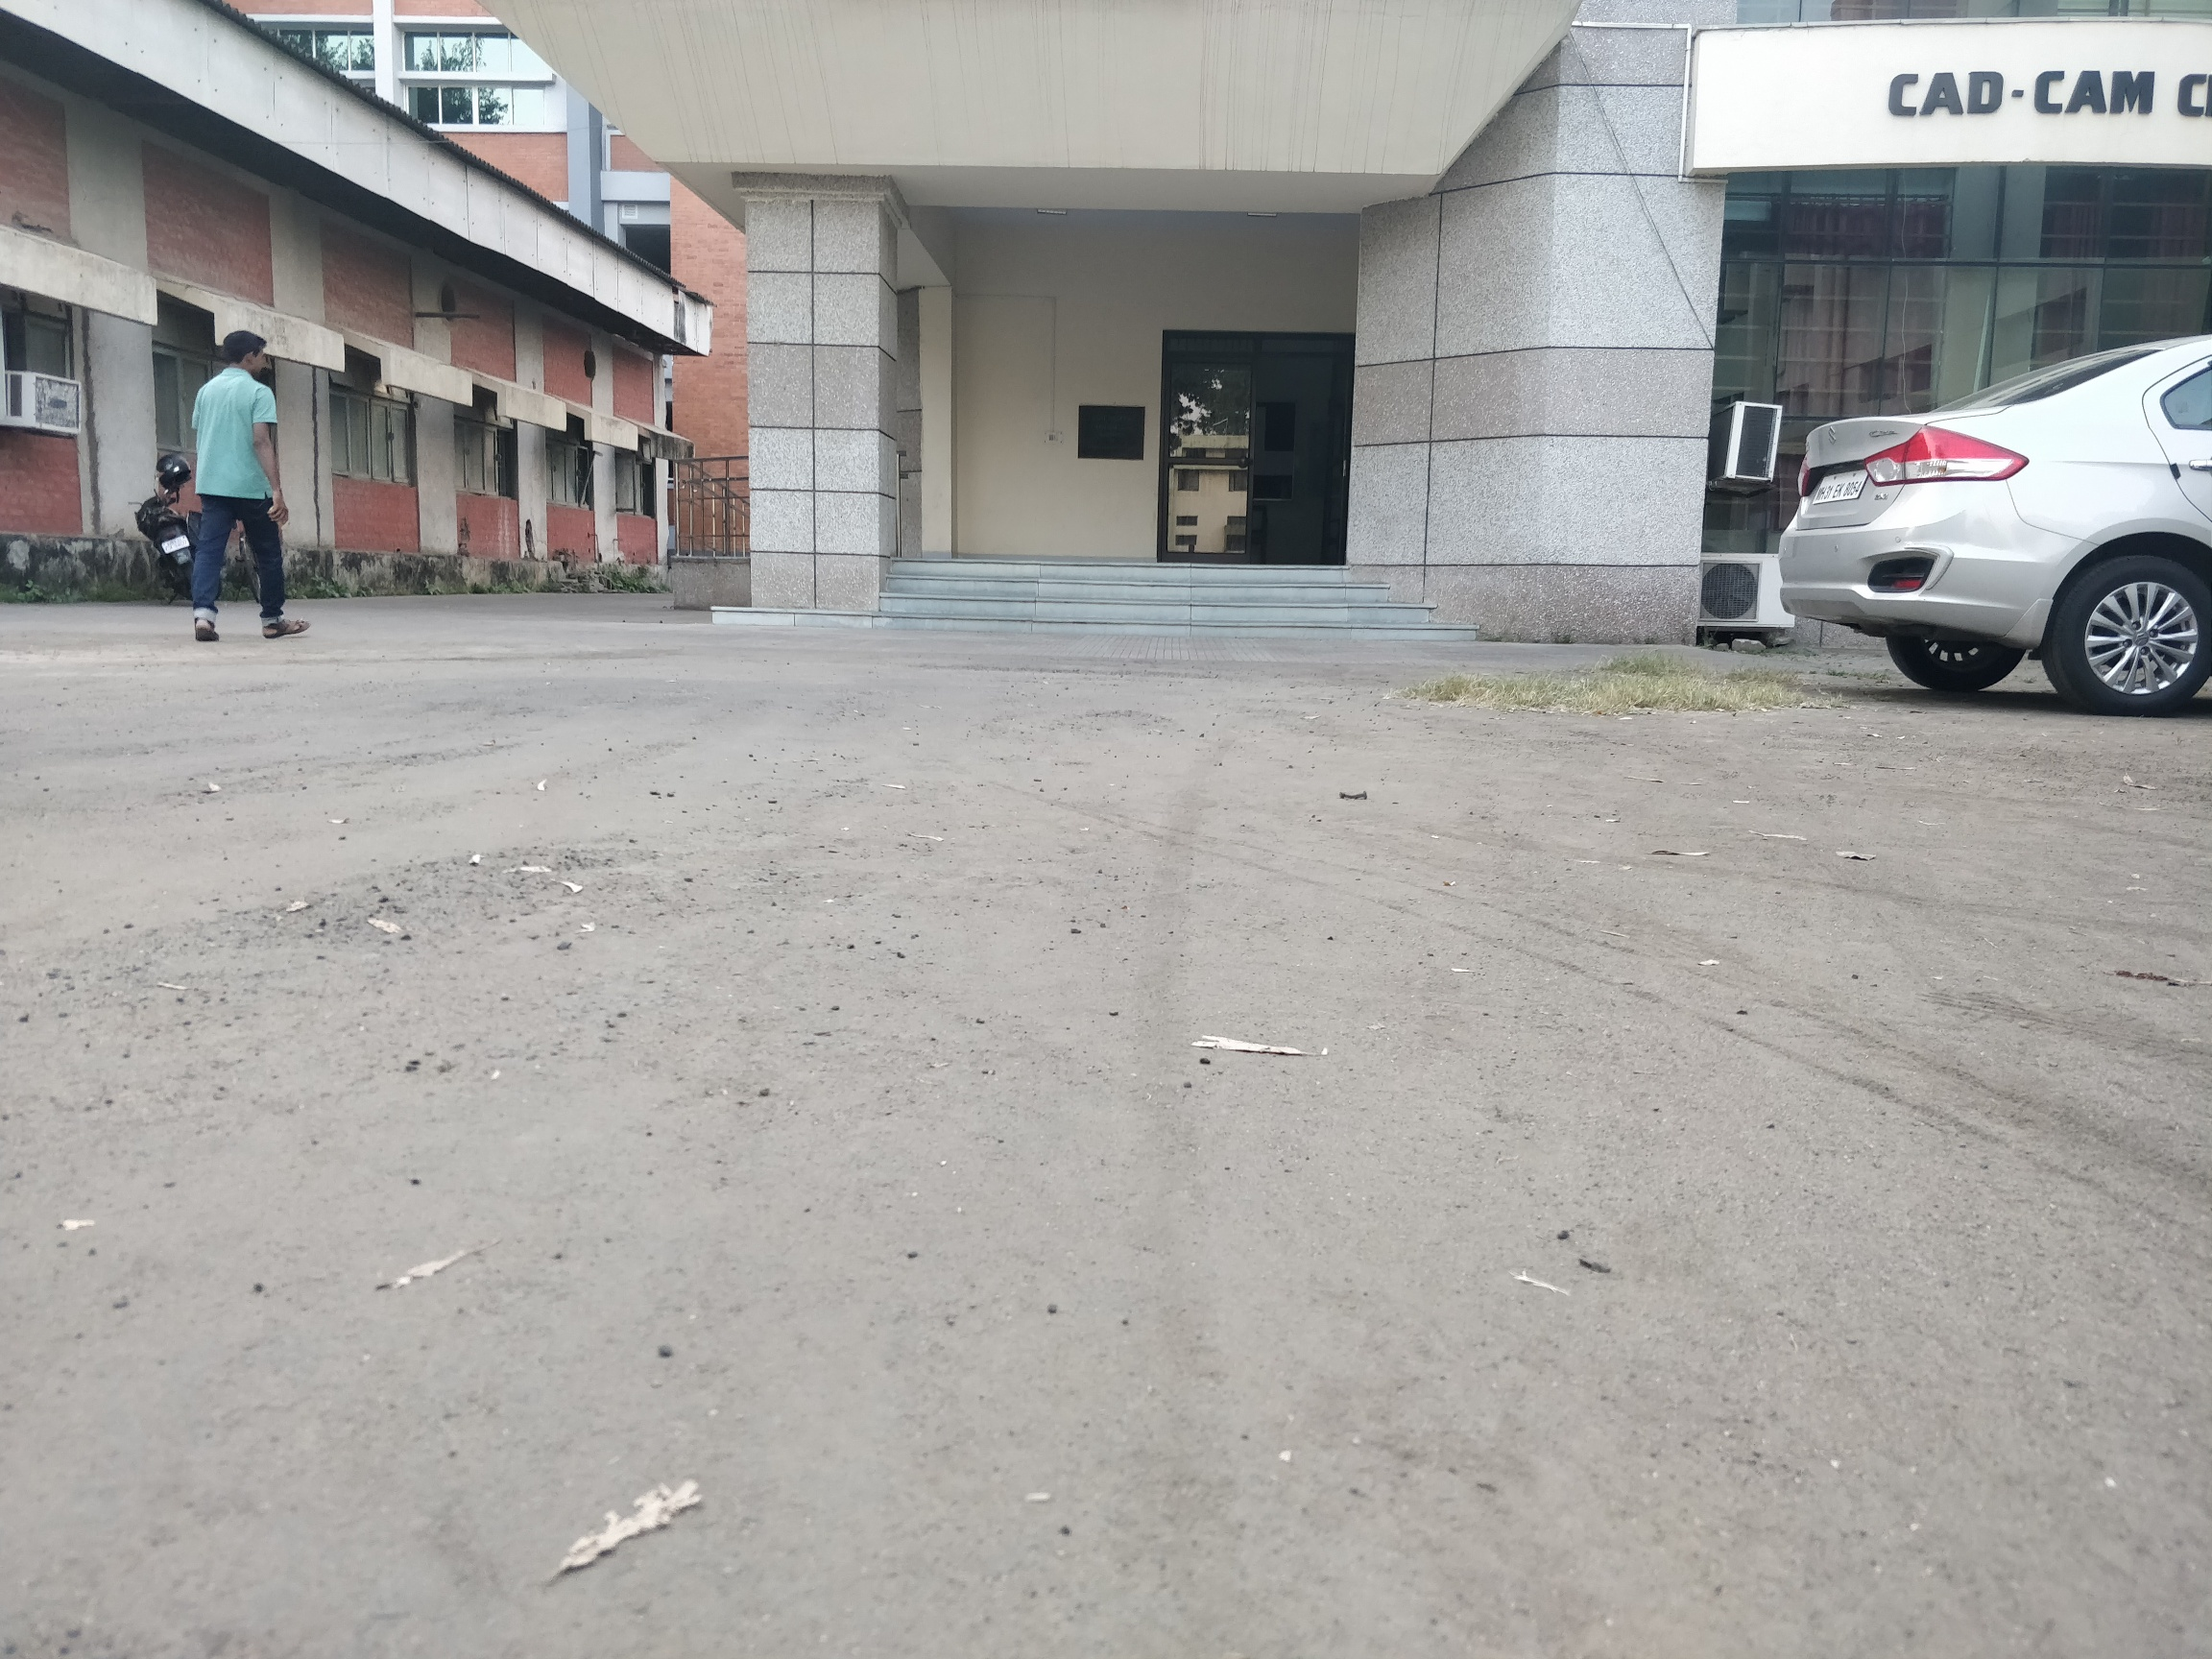stairs_up: (850, 558, 1446, 643)
